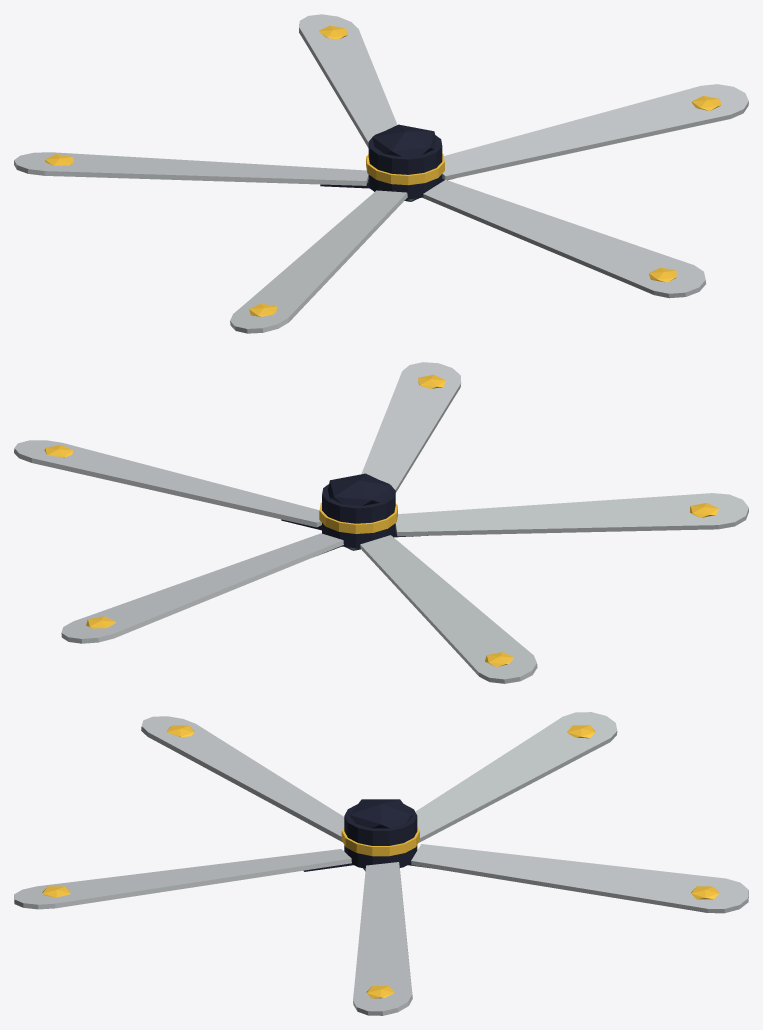
The model's file is sm_env_depot_ceiling_fan.glb.
The picture shows the model from 3 angles, top to bottom: view 1: azimuth 30°, elevation 25°; view 2: azimuth 150°, elevation 25°; view 3: azimuth 270°, elevation 25°; orthographic projection.
Parts seen in each view (by area): view 1: Blade, Blade.004, Blade.003, Blade.002, Blade.001, Motor, MotorTop, MotorRing; view 2: Blade.003, Blade.002, Blade.001, Blade, Blade.004, Motor, MotorTop, MotorRing; view 3: Blade.001, Blade.002, Blade, Blade.004, Blade.003, Motor, MotorTop, MotorRing.
Part boxes in pixels (bbox=[...]): Blade: bbox=[442, 84, 748, 179]; Blade.004: bbox=[423, 179, 705, 298]; Blade.003: bbox=[230, 190, 407, 333]; Blade.002: bbox=[14, 152, 368, 185]; Blade.001: bbox=[299, 14, 397, 147]; Motor: bbox=[368, 132, 442, 199]; MotorTop: bbox=[372, 124, 436, 156]; MotorRing: bbox=[366, 153, 444, 185]; Blade.003: bbox=[395, 493, 748, 536]; Blade.002: bbox=[360, 535, 537, 683]; Blade.001: bbox=[61, 533, 343, 643]; Blade: bbox=[14, 440, 321, 527]; Blade.004: bbox=[361, 362, 461, 492]; Motor: bbox=[322, 481, 395, 548]; MotorTop: bbox=[328, 473, 391, 505]; MotorRing: bbox=[319, 502, 397, 533]; Blade.001: bbox=[411, 844, 748, 913]; Blade.002: bbox=[415, 712, 617, 842]; Blade: bbox=[353, 862, 412, 1015]; Blade.004: bbox=[14, 849, 351, 909]; Blade.003: bbox=[141, 716, 344, 842]; Motor: bbox=[344, 804, 417, 868]; MotorTop: bbox=[349, 799, 411, 828]; MotorRing: bbox=[341, 826, 419, 856].
Bounding box in the file's own units: 4.24 × 0.43 × 4.42.
